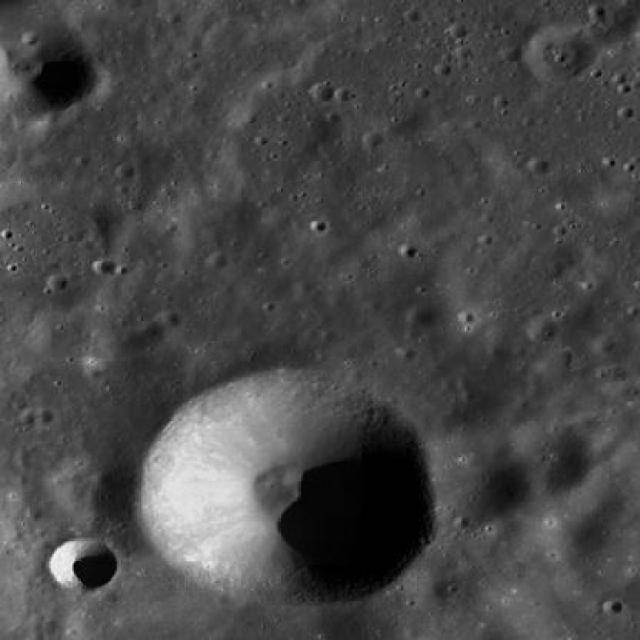crater: (142, 378, 435, 610), (0, 177, 125, 326), (409, 425, 537, 527), (0, 0, 94, 120), (218, 93, 337, 187), (497, 420, 594, 497), (166, 183, 262, 260), (54, 452, 150, 528), (541, 506, 614, 564), (524, 26, 598, 82), (50, 536, 119, 592), (403, 560, 460, 606), (26, 314, 82, 358), (578, 470, 632, 512), (376, 95, 429, 137), (100, 319, 148, 358), (528, 318, 558, 340), (614, 379, 640, 404), (408, 304, 436, 326), (138, 318, 166, 340), (594, 437, 620, 457), (594, 336, 618, 354), (207, 250, 230, 268), (312, 83, 334, 100), (94, 259, 115, 276), (606, 366, 628, 382), (578, 412, 600, 428), (156, 308, 178, 324), (603, 598, 623, 614), (529, 158, 549, 174)
